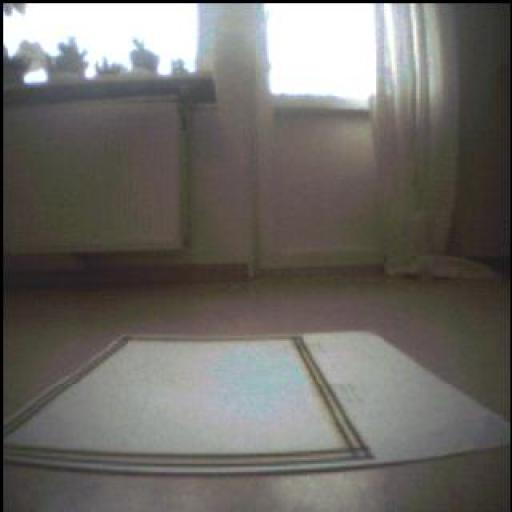Pad: (6, 334, 511, 475)
